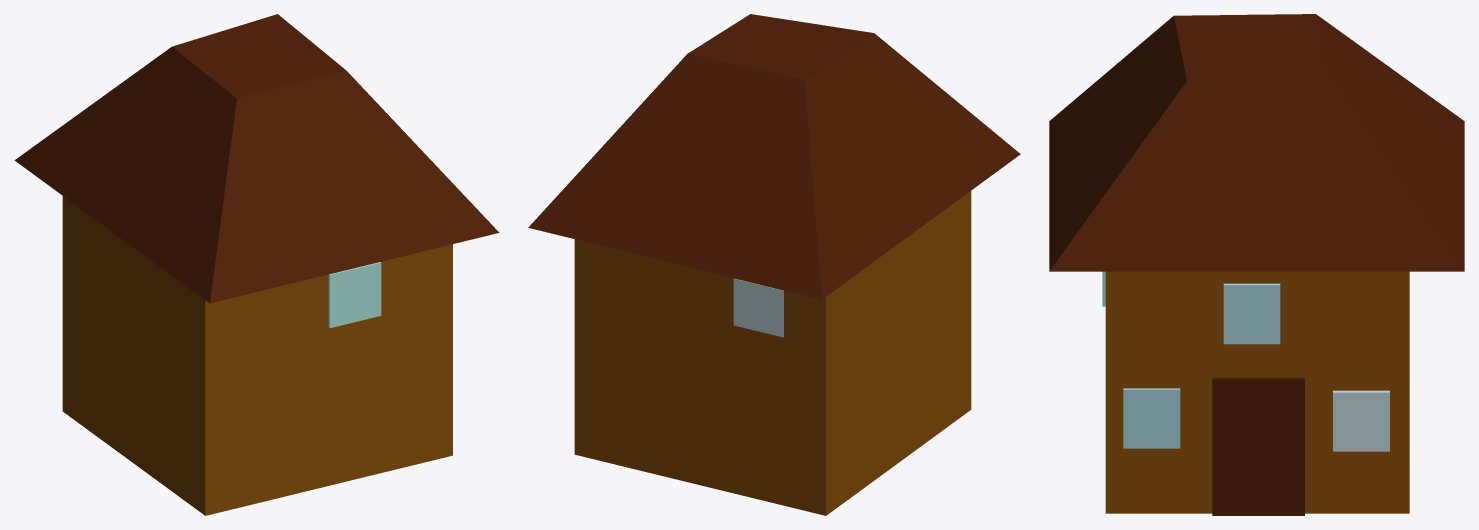
The model's file is house.fbx.
3 renders of one model, left to right at view 1: azimuth 30°, elevation 25°; view 2: azimuth 150°, elevation 25°; view 3: azimuth 270°, elevation 25°, orthographic. The views are drawn at different scales.
Visible parts, largest first — view 1: Cube, Cube.001, Cube.006; view 2: Cube, Cube.001, Cube.003; view 3: Cube.001, Cube, Cube.002, Cube.005, Cube.004.
Boxes of the visible parts, left/top/right/bottom form: Cube: left=62, top=196, right=452, bottom=515; Cube.001: left=14, top=14, right=499, bottom=303; Cube.006: left=328, top=262, right=381, bottom=328; Cube: left=574, top=191, right=971, bottom=515; Cube.001: left=528, top=14, right=1020, bottom=299; Cube.003: left=733, top=278, right=783, bottom=337; Cube.001: left=1049, top=14, right=1464, bottom=515; Cube: left=1105, top=271, right=1409, bottom=513; Cube.002: left=1223, top=283, right=1280, bottom=344; Cube.005: left=1123, top=388, right=1180, bottom=448; Cube.004: left=1333, top=390, right=1389, bottom=451.
Bounding box in the file's own units: 234 × 296 × 273.
